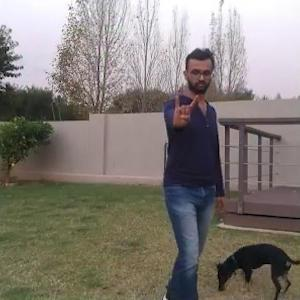takeoff-hand: (164, 88, 203, 134)
